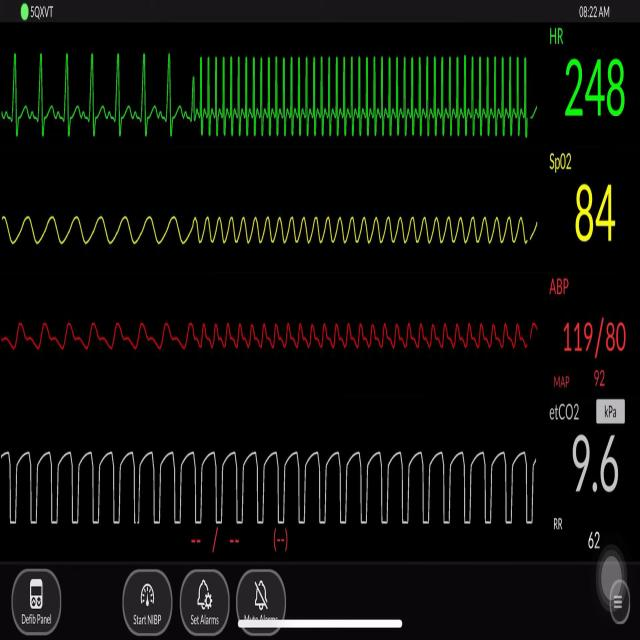danger: (185, 40, 538, 155)
